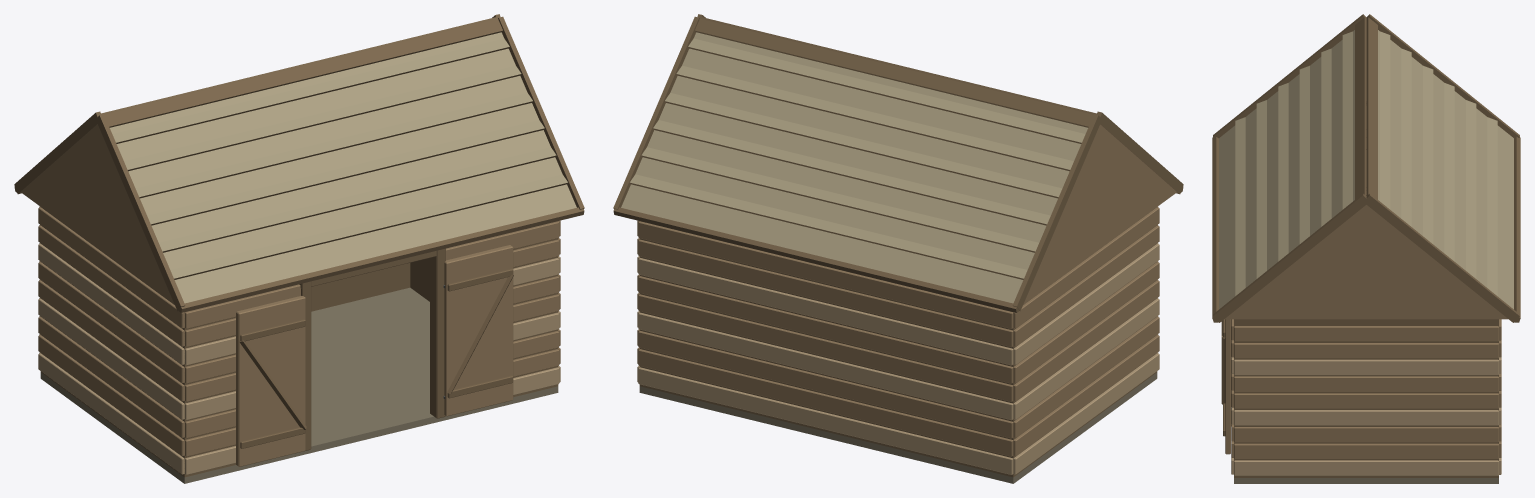
The model's file is barn.glb.
3 renders of one model, left to right at view 1: azimuth 30°, elevation 25°; view 2: azimuth 150°, elevation 25°; view 3: azimuth 270°, elevation 25°, orthographic. The views are drawn at different scales.
Parts seen in each view (by area): view 1: barn_settlement_thatch, barn_oak, barn_oak_dark, barn_settlement_earth, barn_oak_light; view 2: barn_settlement_thatch, barn_oak, barn_oak_light, barn_oak_dark, barn_settlement_earth; view 3: barn_settlement_thatch, barn_oak, barn_oak_dark, barn_oak_light, barn_settlement_earth.
Boxes of the visible parts, box(x1,y1,x2,y2) form: barn_settlement_thatch: box(21, 32, 576, 304); barn_oak: box(38, 206, 560, 466); barn_oak_dark: box(14, 14, 584, 477); barn_settlement_earth: box(40, 287, 558, 483); barn_oak_light: box(38, 243, 560, 474); barn_settlement_thatch: box(621, 32, 1176, 304); barn_oak: box(637, 206, 1159, 456); barn_oak_light: box(637, 243, 1159, 474); barn_oak_dark: box(613, 14, 1183, 477); barn_settlement_earth: box(639, 372, 1157, 483); barn_settlement_thatch: box(1219, 30, 1513, 319); barn_oak: box(1225, 319, 1501, 459); barn_oak_dark: box(1212, 14, 1520, 477); barn_oak_light: box(1231, 357, 1501, 475); barn_settlement_earth: box(1234, 478, 1498, 483).
Size of the model in its own units: 6.48 by 4.93 by 4.66.
